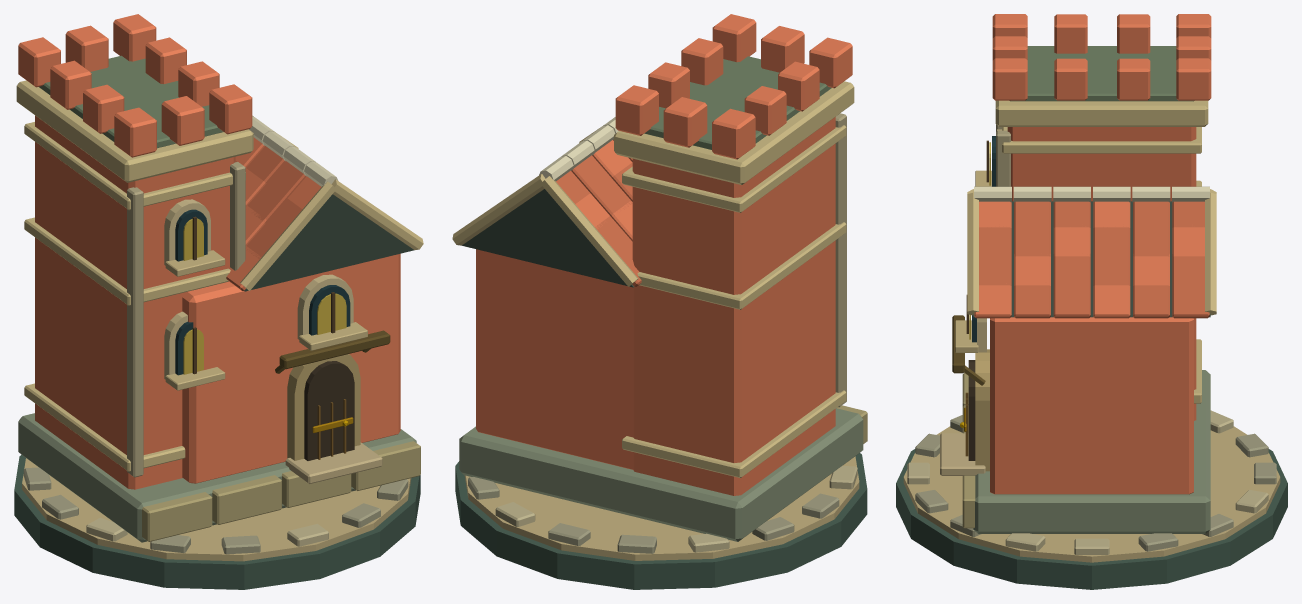
Rendered from city_citadel.glb.
3 views of the same model, side by side, from view 1: azimuth 30°, elevation 25°; view 2: azimuth 150°, elevation 25°; view 3: azimuth 270°, elevation 25° (orthographic). The views are drawn at different scales.
Visible parts, largest first — view 1: city_citadel_static, city_citadel_owner; view 2: city_citadel_owner, city_citadel_static; view 3: city_citadel_owner, city_citadel_static.
Boxes of the visible parts, bbox=[...] form: city_citadel_static: bbox=[14, 55, 423, 589]; city_citadel_owner: bbox=[18, 14, 400, 489]; city_citadel_owner: bbox=[476, 14, 852, 495]; city_citadel_static: bbox=[452, 56, 867, 589]; city_citadel_owner: bbox=[974, 14, 1211, 494]; city_citadel_static: bbox=[896, 46, 1287, 589].
Size of the model in its own units: 0.47 by 0.569 by 0.47.
